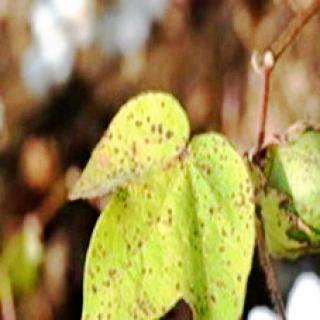leaf spot: (67, 95, 254, 320)
